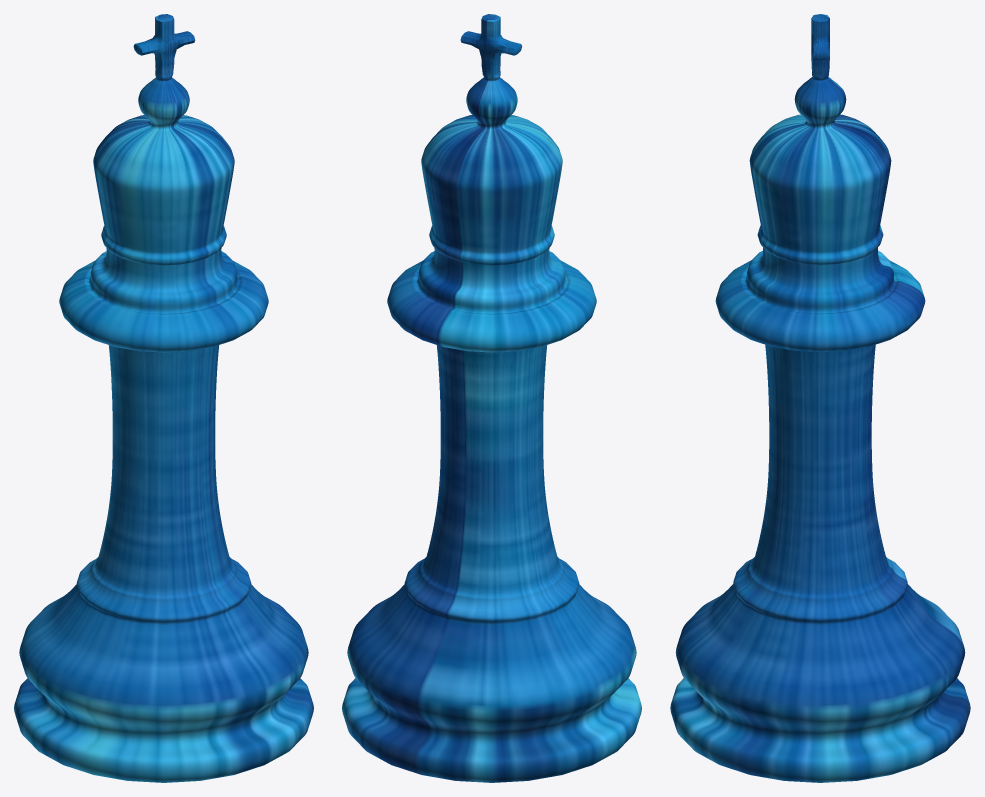
File: KingBlue.obj
3 views of the same model, side by side, from view 1: azimuth 30°, elevation 25°; view 2: azimuth 150°, elevation 25°; view 3: azimuth 270°, elevation 25° (orthographic).
Parts seen in each view (by area): view 1: mesh01; view 2: mesh01; view 3: mesh01.
Part boxes in pixels (bbox=[...]): mesh01: bbox=[14, 14, 313, 782]; mesh01: bbox=[342, 14, 641, 782]; mesh01: bbox=[670, 14, 970, 782].
Bounding box in the file's own units: 14.66 × 38.26 × 14.66.
1 material, 1 textured.
